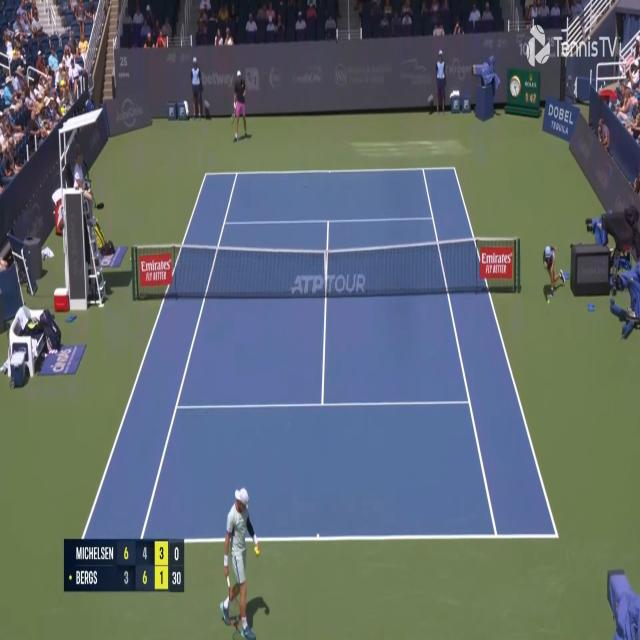tennis-player: (218, 484, 272, 640), (229, 67, 250, 143)
